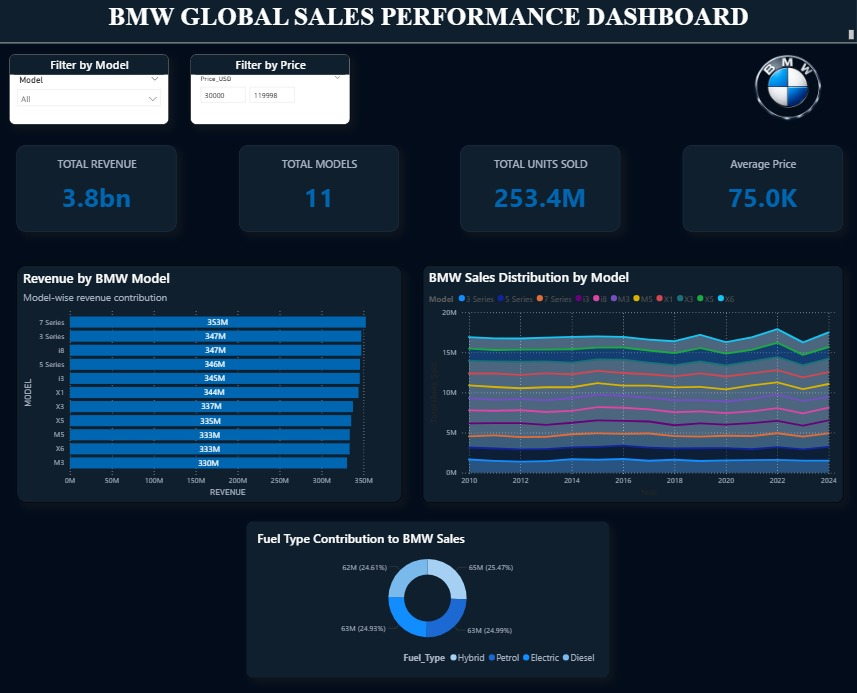

What the dashboard file says about the page in this screenshot:
{"tool":"powerbi","page":{"name":"Page 1","canvas":[1400,1200],"ordinal":0},"visuals":[{"type":"card","title":"TOTAL REVENUE","fields":{"Values":["BMW sales data (2010-2024).Total Revenue"]},"box":[28.5,303.7,260.9,140.6],"z":0},{"type":"textbox","title":"BMW GLOBAL SALES PERFORMANCE DASHBOARD","box":[0,64.2,1399.6,72],"z":1000},{"type":"card","title":"TOTAL MODELS","fields":{"Values":["BMW sales data (2010-2024).Total Models"]},"box":[390.6,303.7,260.9,140.6],"z":2000},{"type":"card","title":"TOTAL UNITS SOLD","fields":{"Values":["BMW sales data (2010-2024).Total Units Sold"]},"box":[752.7,304.2,260.9,140.6],"z":3000},{"type":"clusteredBarChart","title":"Revenue by BMW Model","fields":{"Category":["BMW sales data (2010-2024).Model"],"Y":["BMW sales data (2010-2024).Total Revenue"]},"box":[28.5,499.3,628.8,387.2],"z":4000},{"type":"stackedAreaChart","title":"BMW Sales Distribution by Model","fields":{"Category":["BMW sales data (2010-2024).Year"],"Y":["BMW sales data (2010-2024).Total Units Sold"],"Series":["BMW sales data (2010-2024).Model"]},"box":[690.4,499.3,685.3,387.2],"z":5000},{"type":"slicer","title":"Filter by Model","fields":{"Values":["BMW sales data (2010-2024).Model"]},"box":[15.6,155.7,260.8,114.9],"z":6000},{"type":"slicer","title":"Filter by Price","fields":{"Values":["BMW sales data (2010-2024).Price_USD"]},"box":[311.5,155.7,260.8,114.9],"z":7000},{"type":"image","box":[1173.9,122.3,224.2,181.4],"z":8000},{"type":"donutChart","title":"Fuel Type Contribution to BMW Sales","fields":{"Category":["BMW sales data (2010-2024).Fuel_Type"],"Y":["BMW sales data (2010-2024).Total Units Sold"]},"box":[404.5,917.1,591,254.8],"z":9000},{"type":"card","title":"Average Price","fields":{"Values":["BMW sales data (2010-2024).Average Price"]},"box":[1114.8,303.7,260.9,140.6],"z":10000}]}

Visuals, with their boxes on the page's 1400x1200 design canvas (x1, y1, x2, y2). These are canvas units, not pixel positions in the 857x693 screenshot, which may show the page scaled, cropped or inside an application window:
"TOTAL REVENUE" card: 28 304 289 444
"BMW GLOBAL SALES PERFORMANCE DASHBOARD" textbox: 0 64 1400 136
"TOTAL MODELS" card: 391 304 652 444
"TOTAL UNITS SOLD" card: 753 304 1014 445
"Revenue by BMW Model" clusteredBarChart: 28 499 657 886
"BMW Sales Distribution by Model" stackedAreaChart: 690 499 1376 886
"Filter by Model" slicer: 16 156 276 271
"Filter by Price" slicer: 312 156 572 271
image: 1174 122 1398 304
"Fuel Type Contribution to BMW Sales" donutChart: 404 917 996 1172
"Average Price" card: 1115 304 1376 444
